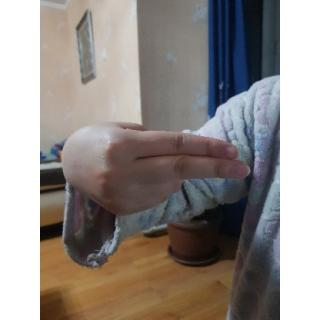AYN: (61, 118, 259, 218)
